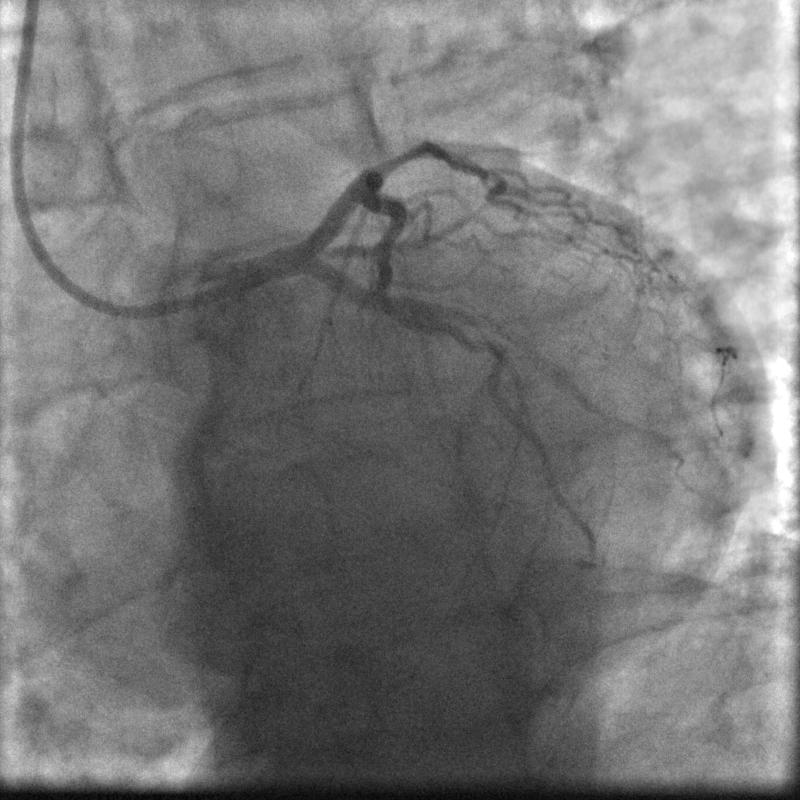Stenosis: (366, 134, 433, 179)
